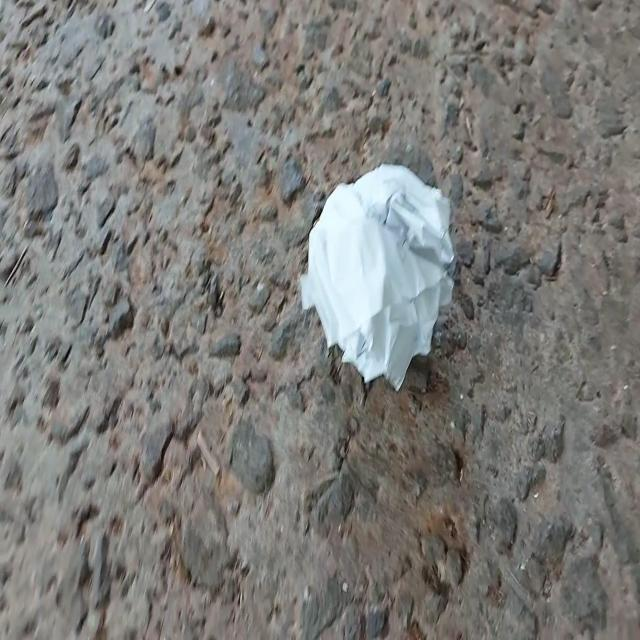Paper: (286, 145, 467, 398)
